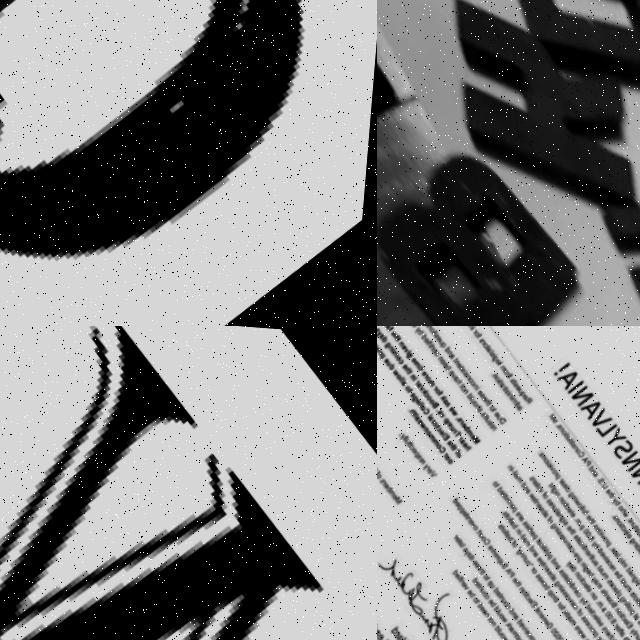0: (590, 521, 598, 529), (587, 518, 595, 526), (610, 600, 618, 608), (556, 618, 564, 626), (561, 624, 569, 632), (613, 603, 620, 611)
2: (559, 621, 568, 629), (564, 626, 572, 634)
8: (592, 524, 602, 533), (615, 607, 625, 616)
B: (377, 100, 627, 326)
D: (446, 0, 640, 147)
K: (379, 0, 640, 285)
M: (553, 108, 640, 326)
N: (0, 326, 377, 640)
Q: (0, 0, 377, 326)
V: (464, 238, 640, 326)
